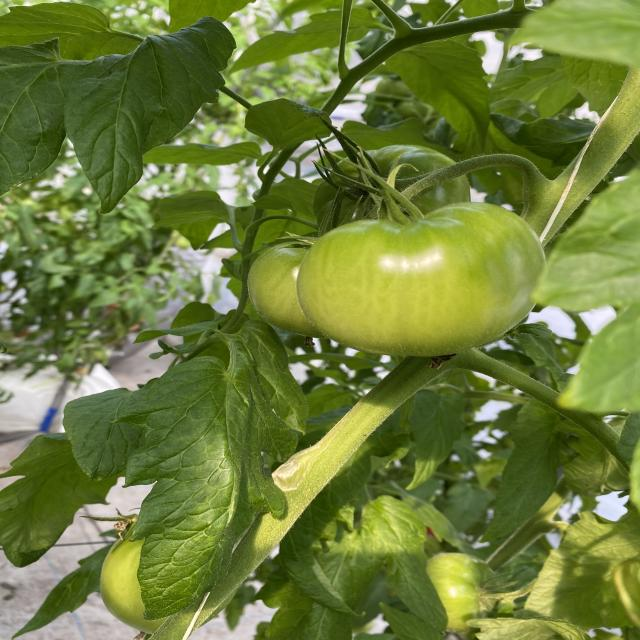yesil: (237, 181, 563, 379)
